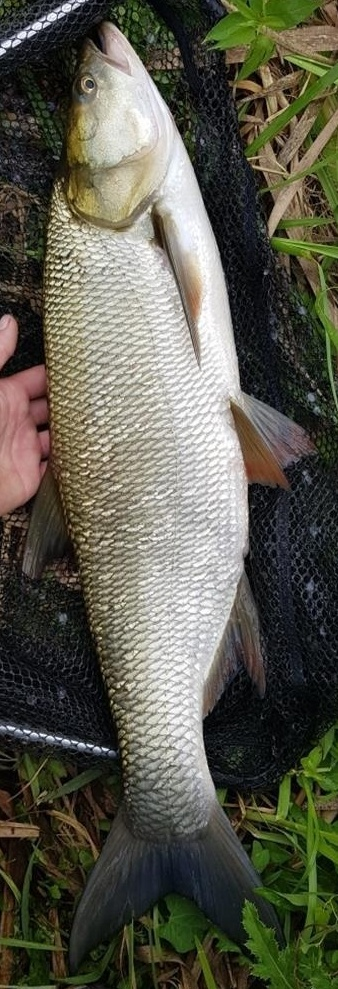Aspius aspius: (20, 20, 318, 969)
